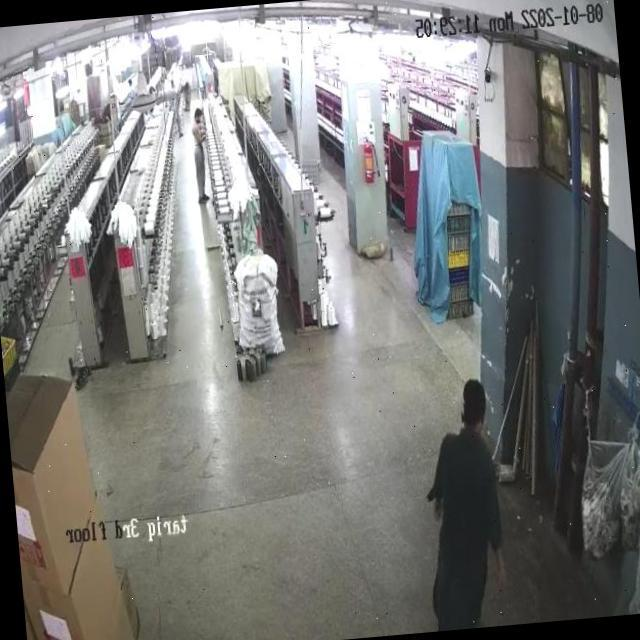person: (400, 382, 510, 632), (186, 106, 212, 216)
